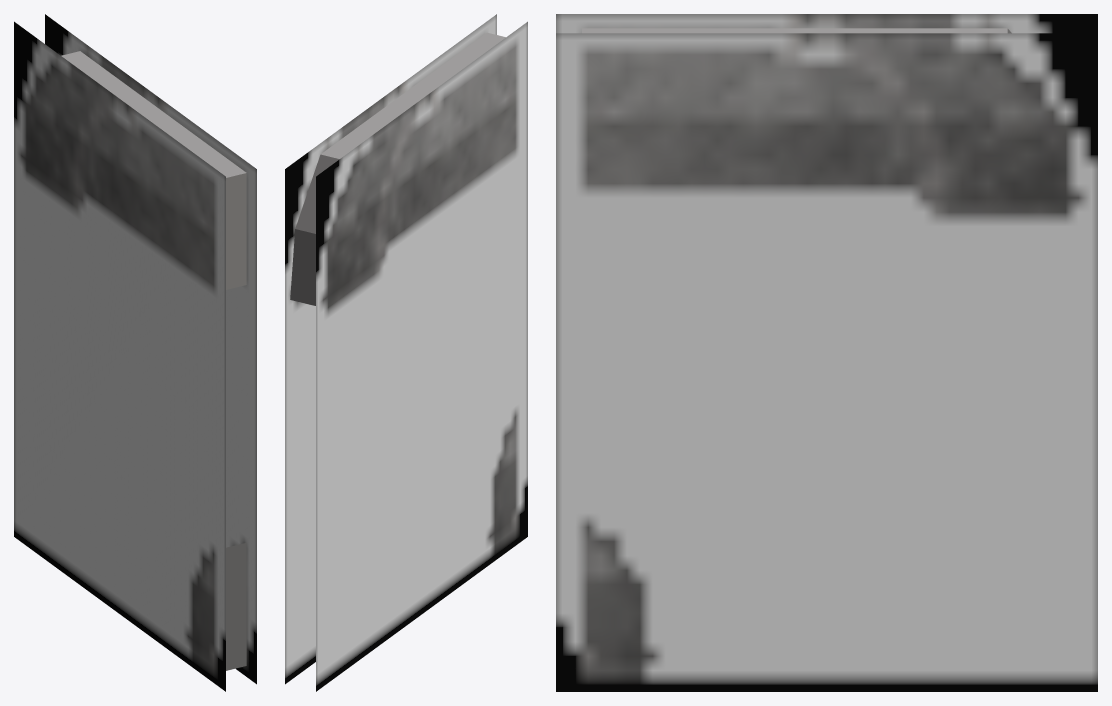
The model's file is pz_native_fixtures_railings_01_122_frame.obj.
3 views of the same model, side by side, from view 1: azimuth 30°, elevation 25°; view 2: azimuth 150°, elevation 25°; view 3: azimuth 270°, elevation 25° (orthographic). The views are drawn at different scales.
Parts seen in each view (by area): view 1: pz_native_fixtures_railings_01_122_frame; view 2: pz_native_fixtures_railings_01_122_frame; view 3: pz_native_fixtures_railings_01_122_frame.
Part boxes in pixels (box(x1,y1,x2,y2)): pz_native_fixtures_railings_01_122_frame: box(14, 14, 256, 691); pz_native_fixtures_railings_01_122_frame: box(285, 14, 527, 691); pz_native_fixtures_railings_01_122_frame: box(556, 14, 1097, 691).
Size of the model in its own units: 0.045 by 0.7188 by 0.5358.
1 material, 1 textured.
